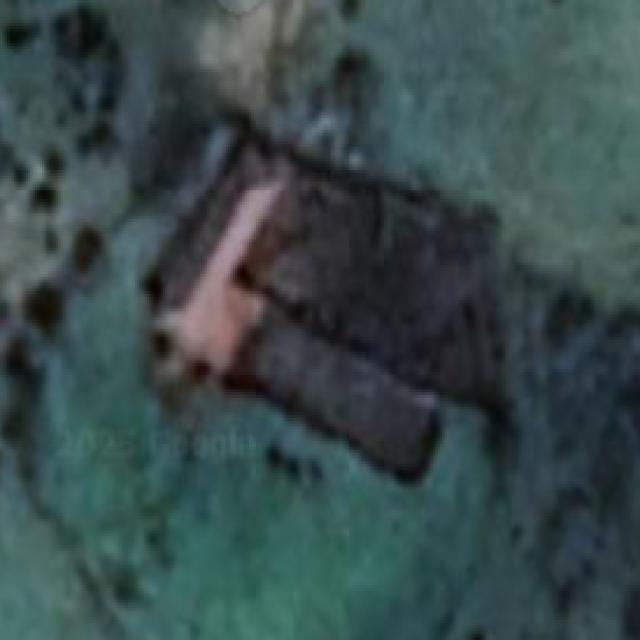Batiment: (155, 146, 496, 479)
